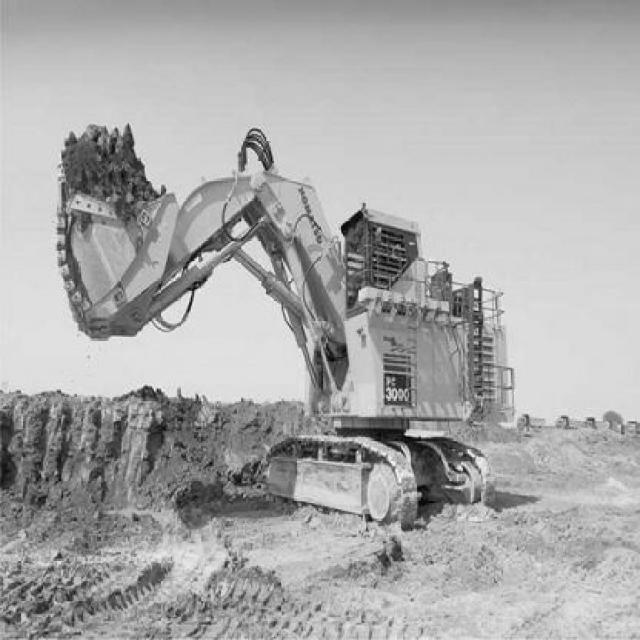Construction Equipment: (56, 129, 517, 534)
